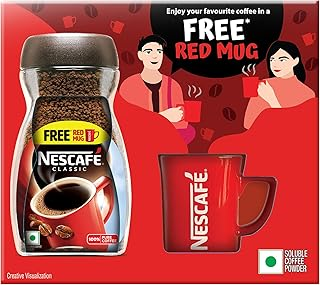Coffee: (2, 2, 320, 285)
